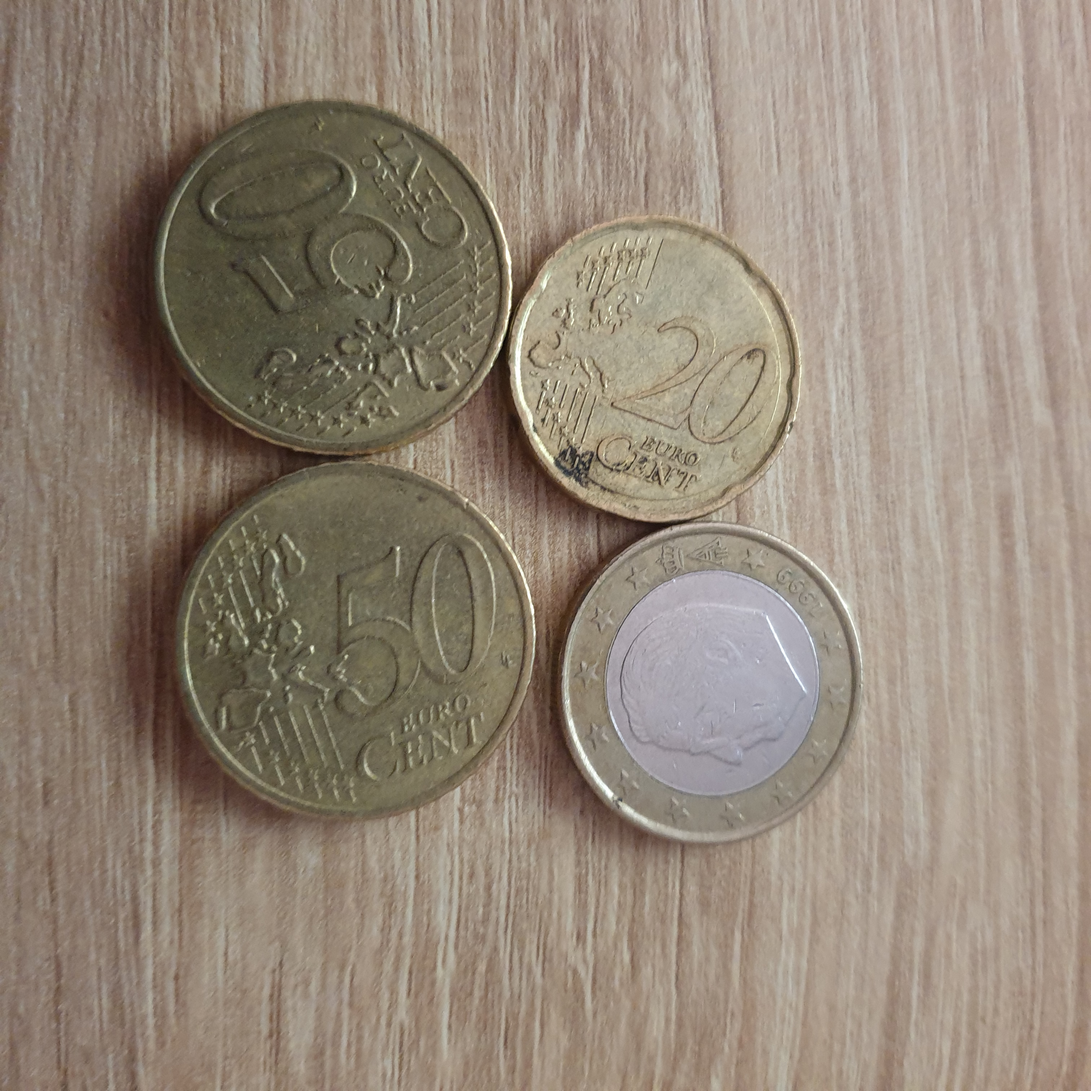1 euro: (551, 522, 872, 857)
20 cent: (508, 217, 808, 524)
50 cent: (142, 93, 525, 460), (157, 463, 540, 829)
